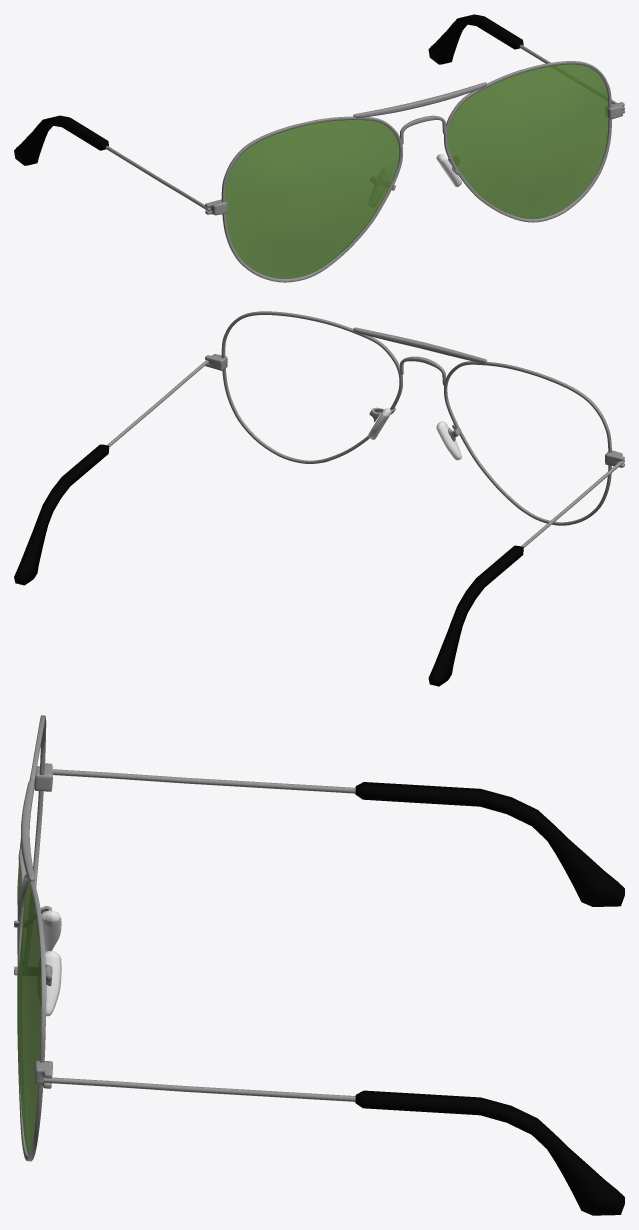
File: Gunmetal_Green.glb
3 renders of one model, top to bottom at view 1: azimuth 30°, elevation 25°; view 2: azimuth 150°, elevation 25°; view 3: azimuth 270°, elevation 25°, orthographic. The views are drawn at different scales.
Visible parts, largest first — view 1: LENSES, Plane_0, Plane.002_1, Plane.002_0; view 2: Plane_0, Plane.002_1, Plane.002_0, Plane_1; view 3: Plane.002_1, Plane_0, LENSES, Plane.002_0, Plane_1.
Boxes of the visible parts, box(x1,y1,x2,y2) form: LENSES: box(225, 64, 608, 278); Plane_0: box(205, 61, 624, 282); Plane.002_1: box(14, 14, 523, 165); Plane.002_0: box(105, 44, 624, 211); Plane_0: box(205, 311, 624, 525); Plane.002_1: box(14, 444, 523, 686); Plane.002_0: box(107, 360, 624, 547); Plane_1: box(368, 408, 461, 460); Plane.002_1: box(355, 782, 624, 1215); Plane_0: box(14, 715, 52, 1161); LENSES: box(17, 773, 41, 1155); Plane.002_0: box(43, 769, 355, 1101); Plane_1: box(41, 910, 61, 1016).
Bounding box in the file's own units: 0.871 × 0.2991 × 0.7129.
